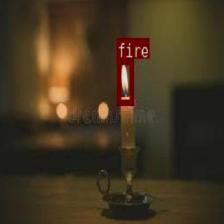fire: (116, 57, 133, 104)
